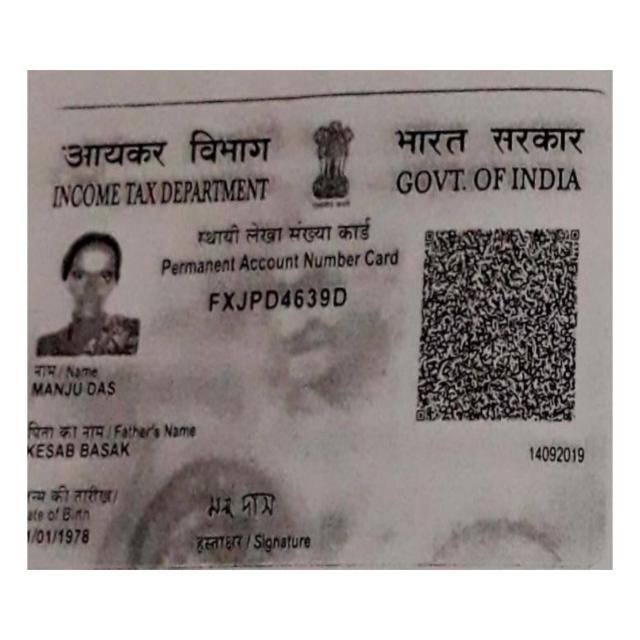pan_card: (27, 96, 612, 568)
